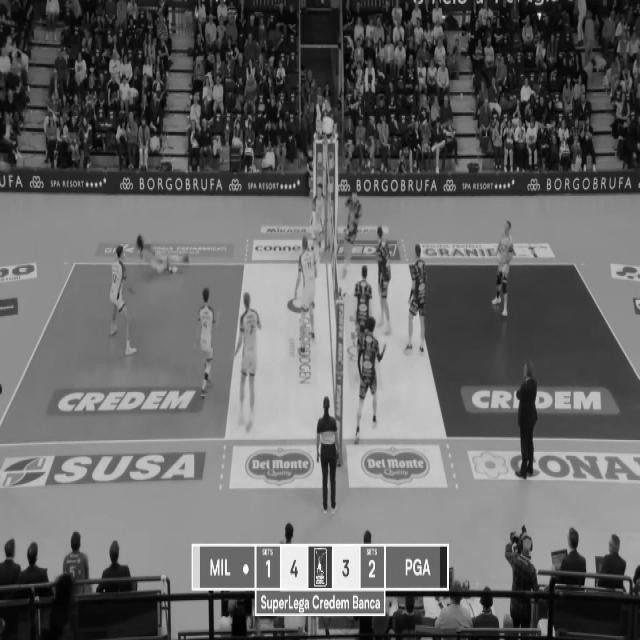volleyball court: (0, 256, 639, 447), (422, 261, 639, 439)
